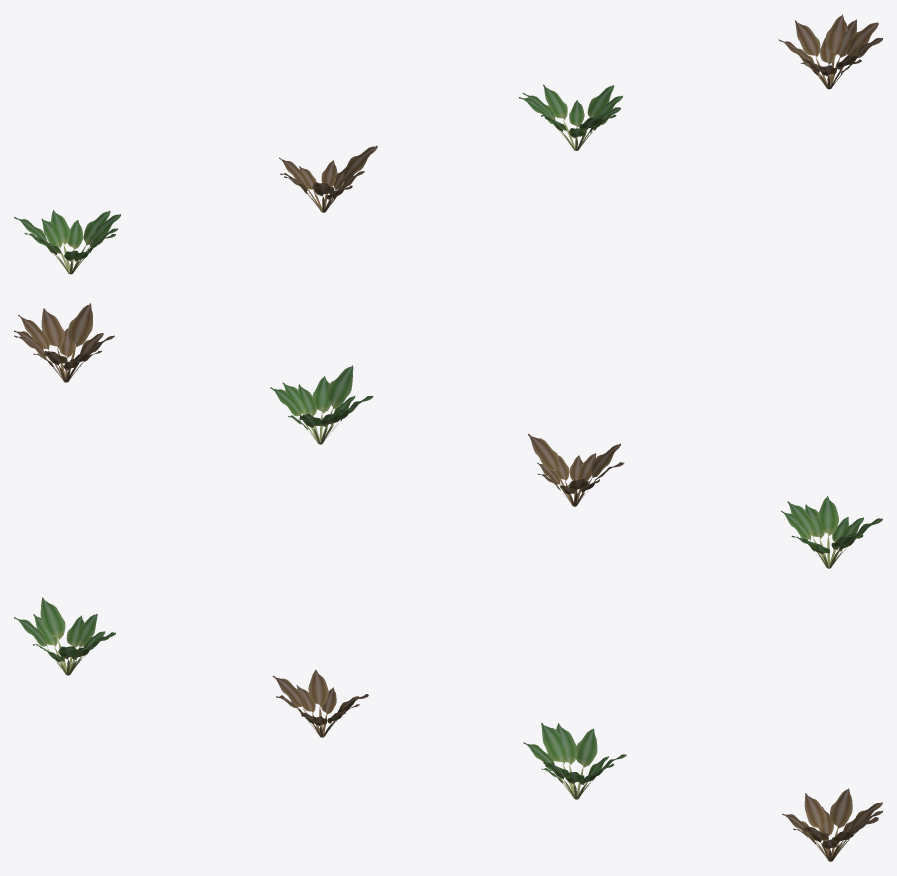
3 views of the same model, one above another, from view 1: azimuth 30°, elevation 25°; view 2: azimuth 150°, elevation 25°; view 3: azimuth 330°, elevation 25° (orthographic).
Visible parts, largest first — view 1: cryptocoryne.003, cryptocoryne, cryptocoryne.002, cryptocoryne.001; view 2: cryptocoryne.003, cryptocoryne.002, cryptocoryne, cryptocoryne.001; view 3: cryptocoryne.002, cryptocoryne, cryptocoryne.003, cryptocoryne.001.
Boxes of the visible parts, <box> form: cryptocoryne.003: <box>778,14,882,89</box>; cryptocoryne: <box>14,210,120,274</box>; cryptocoryne.002: <box>519,84,622,150</box>; cryptocoryne.001: <box>279,145,377,212</box>; cryptocoryne.003: <box>14,303,114,382</box>; cryptocoryne.002: <box>270,365,373,444</box>; cryptocoryne: <box>781,496,882,568</box>; cryptocoryne.001: <box>528,433,624,506</box>; cryptocoryne.002: <box>523,722,626,799</box>; cryptocoryne: <box>14,597,115,675</box>; cryptocoryne.003: <box>782,788,882,861</box>; cryptocoryne.001: <box>272,670,368,737</box>.
Bounding box in the file's own units: 10.11 × 0.6486 × 1.14.
